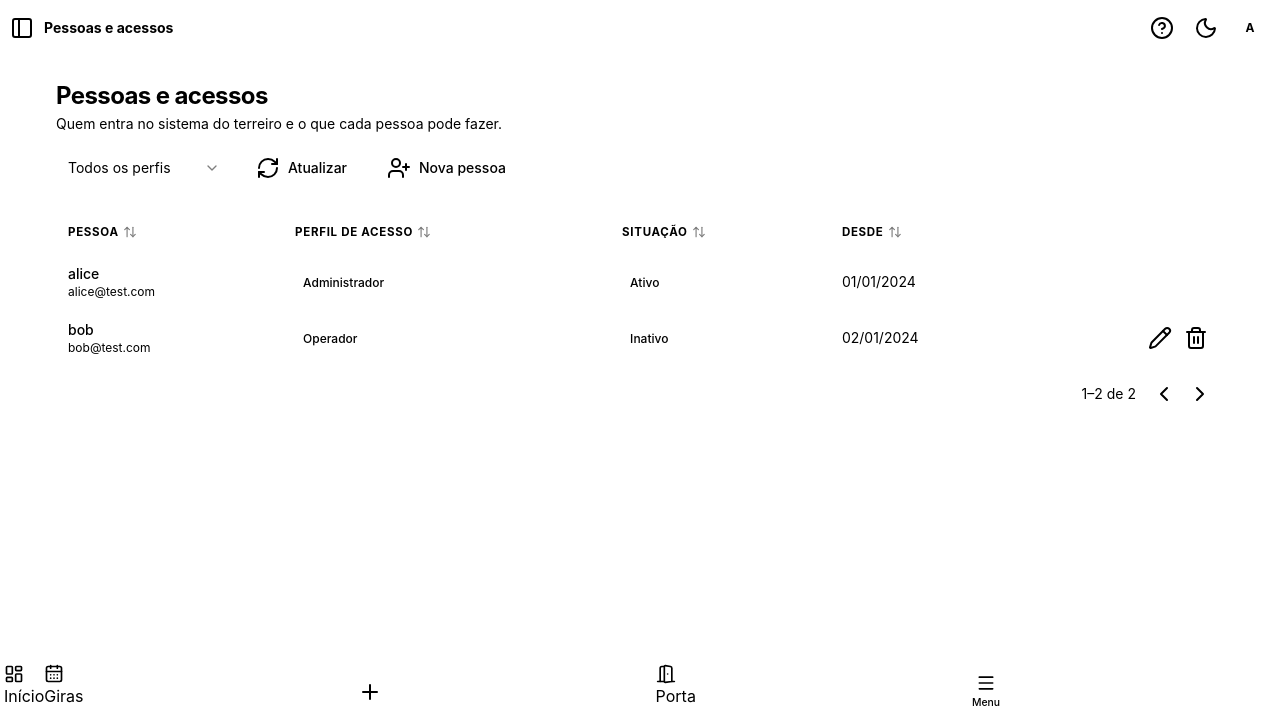
Test: Admin Users Page › closes dialog without deleting on cancel
expect the text "alice@test.com" is shown: met, box left=68, top=284, right=155, bottom=299
What coordinates should you click on to do the following:
click the button named "Excluir usuário"
I would click on:
 (1196, 338)
Its box is left=1180, top=322, right=1212, bottom=354.
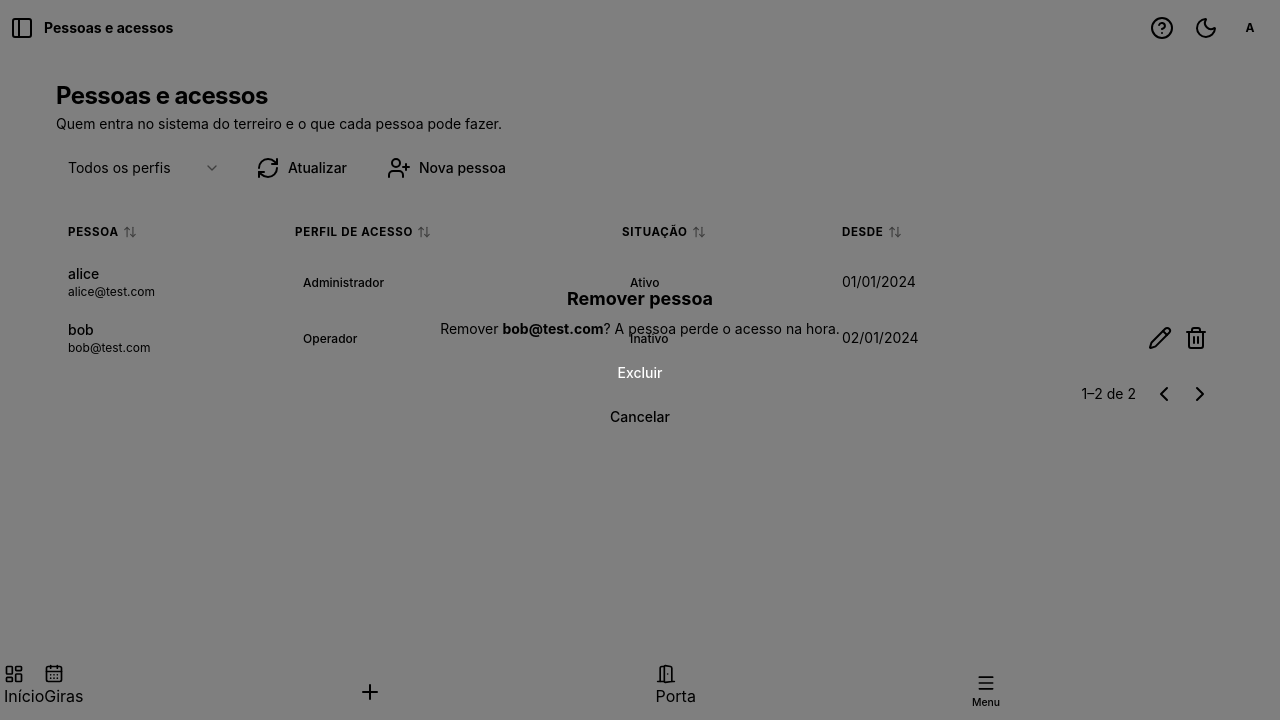
expect the dialog is shown: met, box left=16, top=261, right=1264, bottom=459
What coordinates should you click on to do the following:
click the button "Cancelar"
I would click on:
 (640, 417)
Its box is left=40, top=399, right=1240, bottom=435.
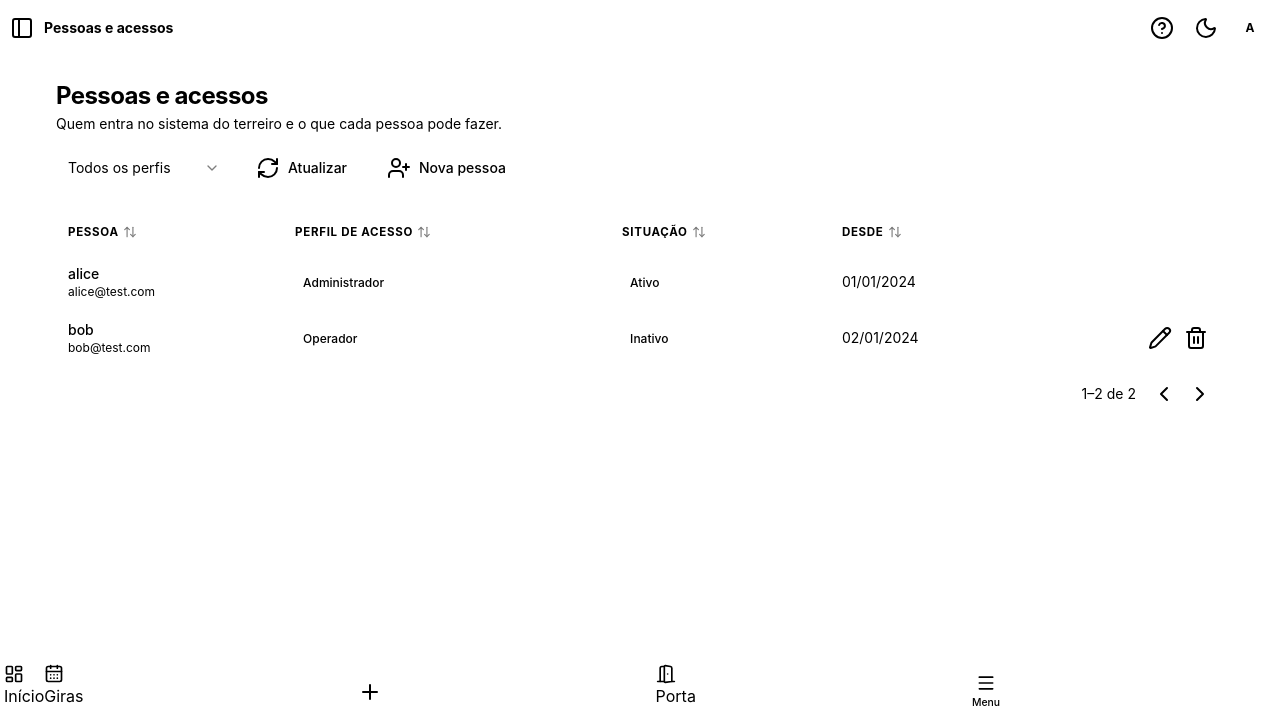
expect the dialog is gone: met
